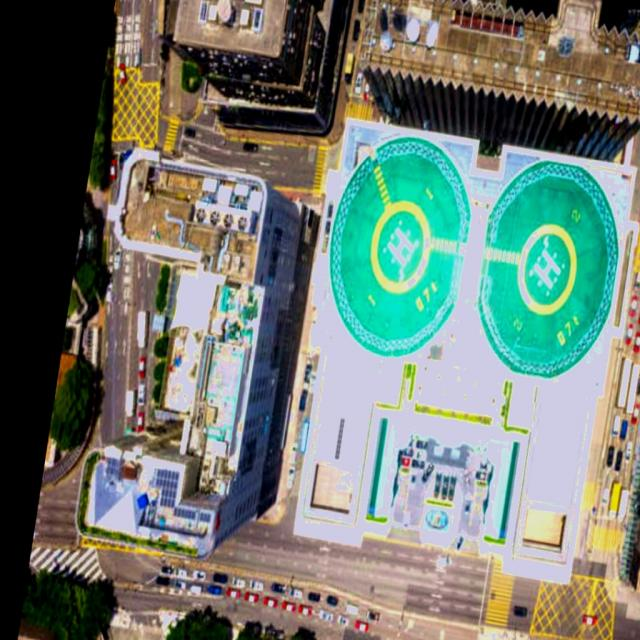helipad: (366, 197, 433, 295), (512, 220, 578, 316)
